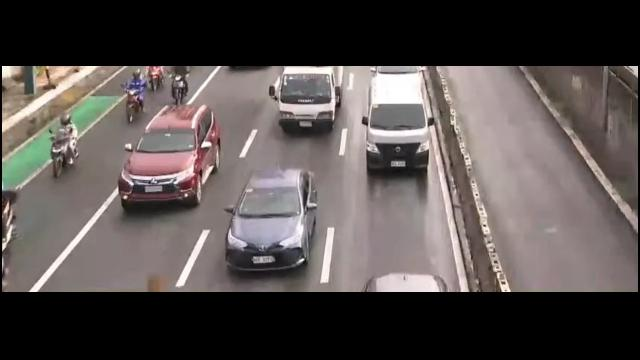bus: (267, 67, 344, 135)
car: (111, 99, 222, 215), (227, 166, 318, 274), (360, 270, 450, 292)
motorcycle: (48, 114, 80, 179), (121, 69, 147, 122), (166, 66, 193, 106), (148, 65, 164, 91)
van: (361, 68, 436, 174)
